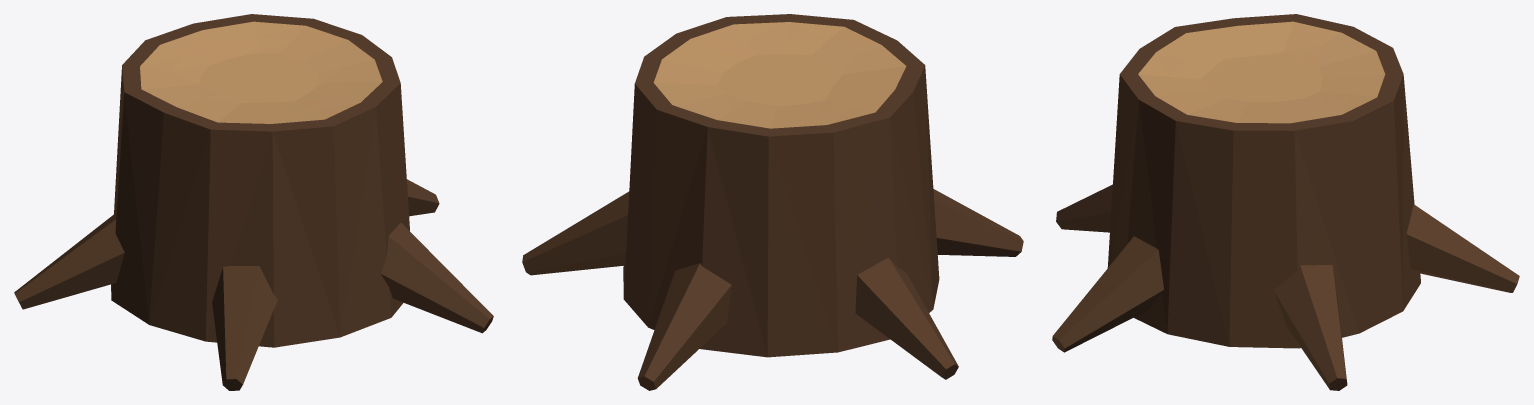
Rendered from stump.obj.
3 views of the same model, side by side, from view 1: azimuth 30°, elevation 25°; view 2: azimuth 150°, elevation 25°; view 3: azimuth 270°, elevation 25° (orthographic). The views are drawn at different scales.
Visible parts, largest first — view 1: stump; view 2: stump; view 3: stump.
Boxes of the visible parts, x1,y1,x2,y2 form: stump: [14, 14, 493, 390]; stump: [522, 14, 1023, 390]; stump: [1052, 14, 1519, 390].
Bounding box in the file's own units: 0.9311 × 0.4582 × 0.8927.
